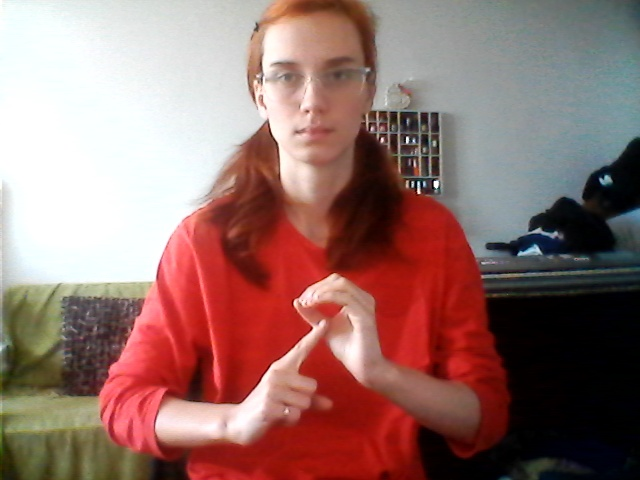q: (221, 267, 405, 451)
